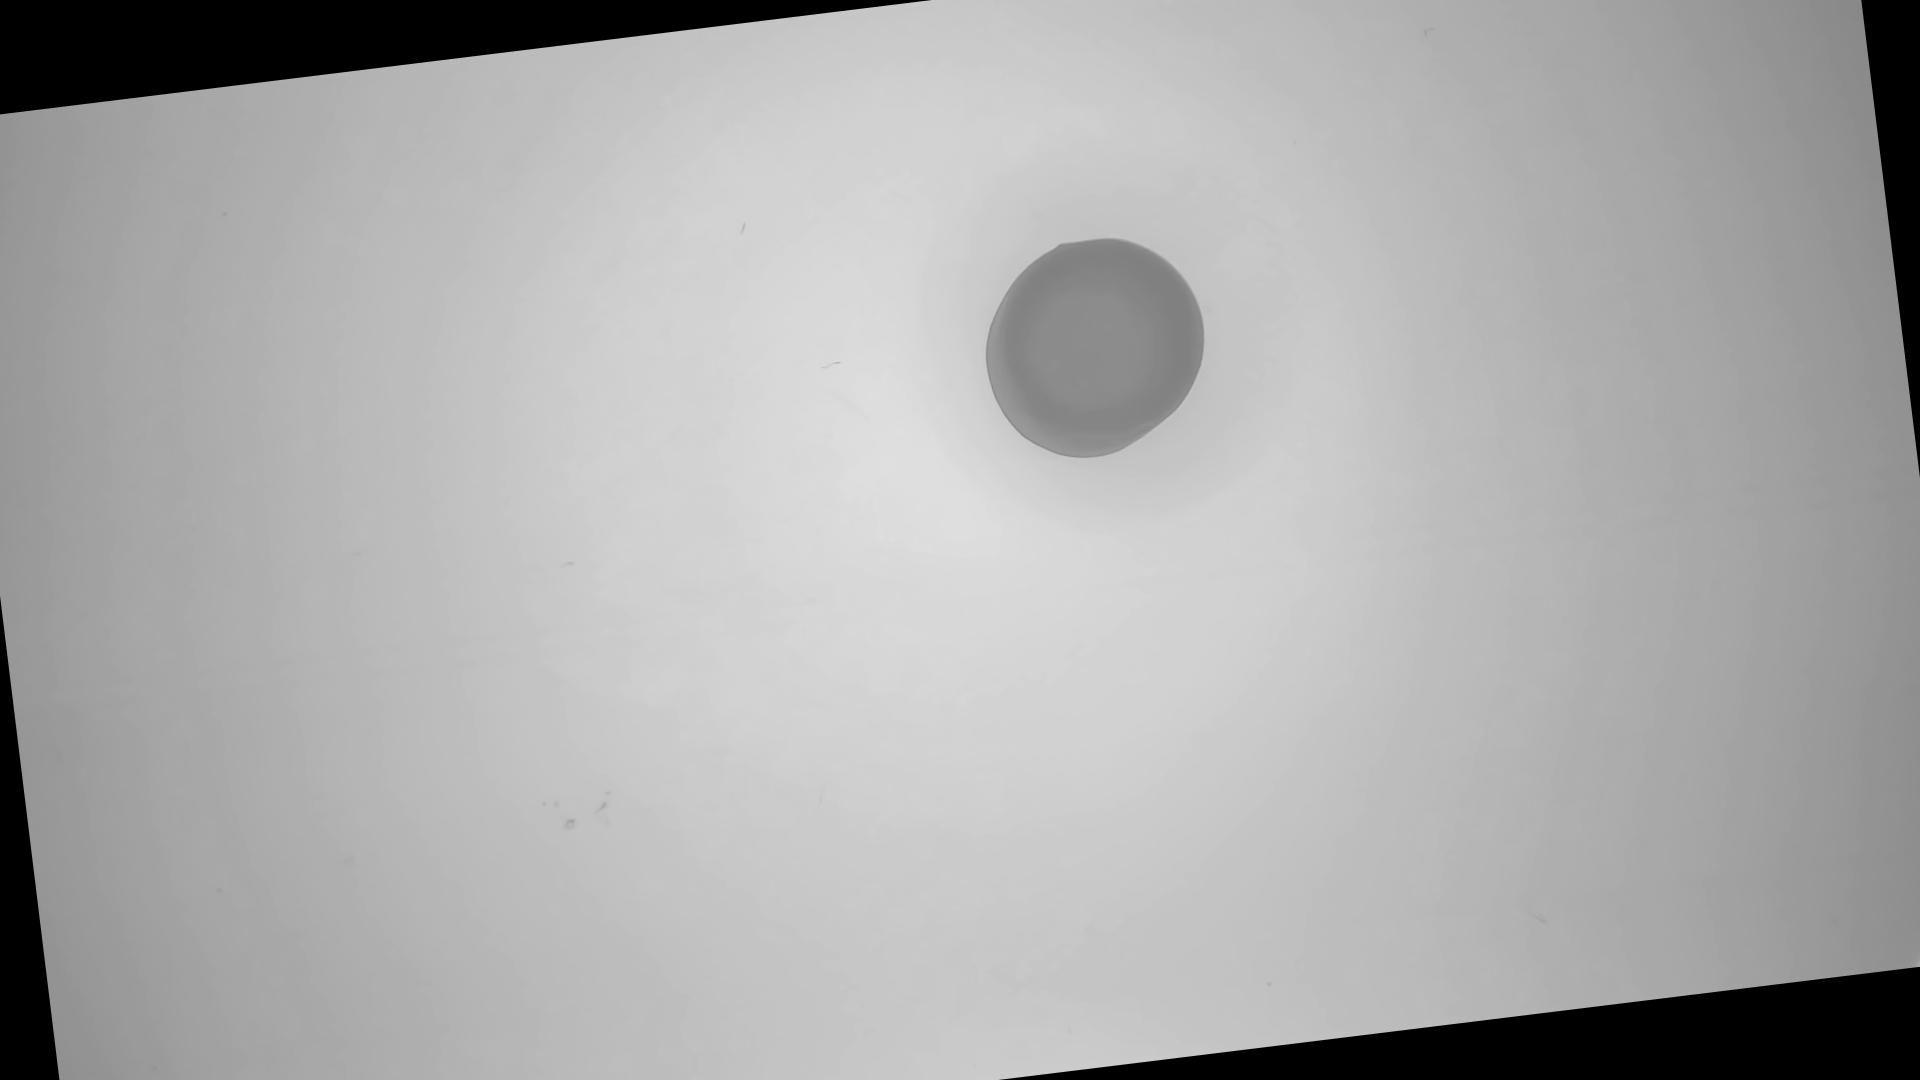normal: (968, 222, 1222, 473)
